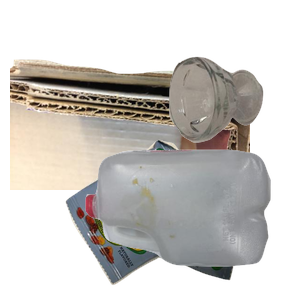cardboard: (10, 57, 250, 237)
glass: (166, 54, 300, 189)
plastic: (83, 147, 300, 300)
trash: (63, 137, 289, 300)
